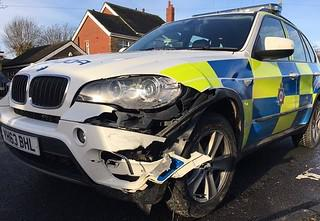Headlight-Damage: (67, 71, 197, 117)
fender-dent: (192, 63, 274, 139)
front-bumper-dent: (61, 117, 203, 200)
